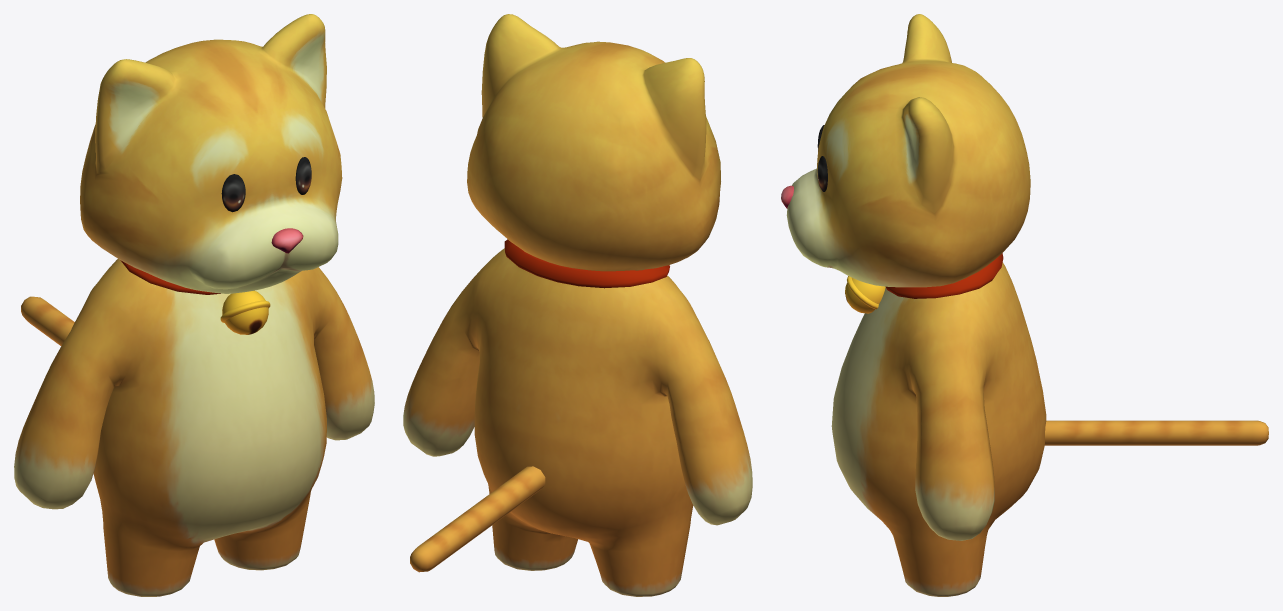
File: CatLumber.fbx
3 renders of one model, left to right at view 1: azimuth 30°, elevation 25°; view 2: azimuth 150°, elevation 25°; view 3: azimuth 270°, elevation 25°, orthographic. The views are drawn at different scales.
Visible parts, largest first — view 1: Cat_Body, Cat_Acc, Cat_Tail, Cat_Eye_R, Cat_Eye_L; view 2: Cat_Body, Cat_Tail, Cat_Acc; view 3: Cat_Body, Cat_Tail, Cat_Acc.
Part boxes in pixels (bbox=[...]): Cat_Body: bbox=[14, 14, 374, 596]; Cat_Acc: bbox=[120, 260, 270, 334]; Cat_Tail: bbox=[21, 296, 74, 345]; Cat_Eye_R: bbox=[221, 174, 245, 212]; Cat_Eye_L: bbox=[295, 157, 311, 194]; Cat_Body: bbox=[403, 14, 752, 596]; Cat_Tail: bbox=[410, 466, 545, 572]; Cat_Acc: bbox=[504, 239, 669, 288]; Cat_Body: bbox=[781, 14, 1046, 596]; Cat_Tail: bbox=[1044, 420, 1268, 445]; Cat_Acc: bbox=[845, 253, 1003, 313].
Bounding box in the file's own units: 228 × 338 × 298.
1 material, 1 textured.
